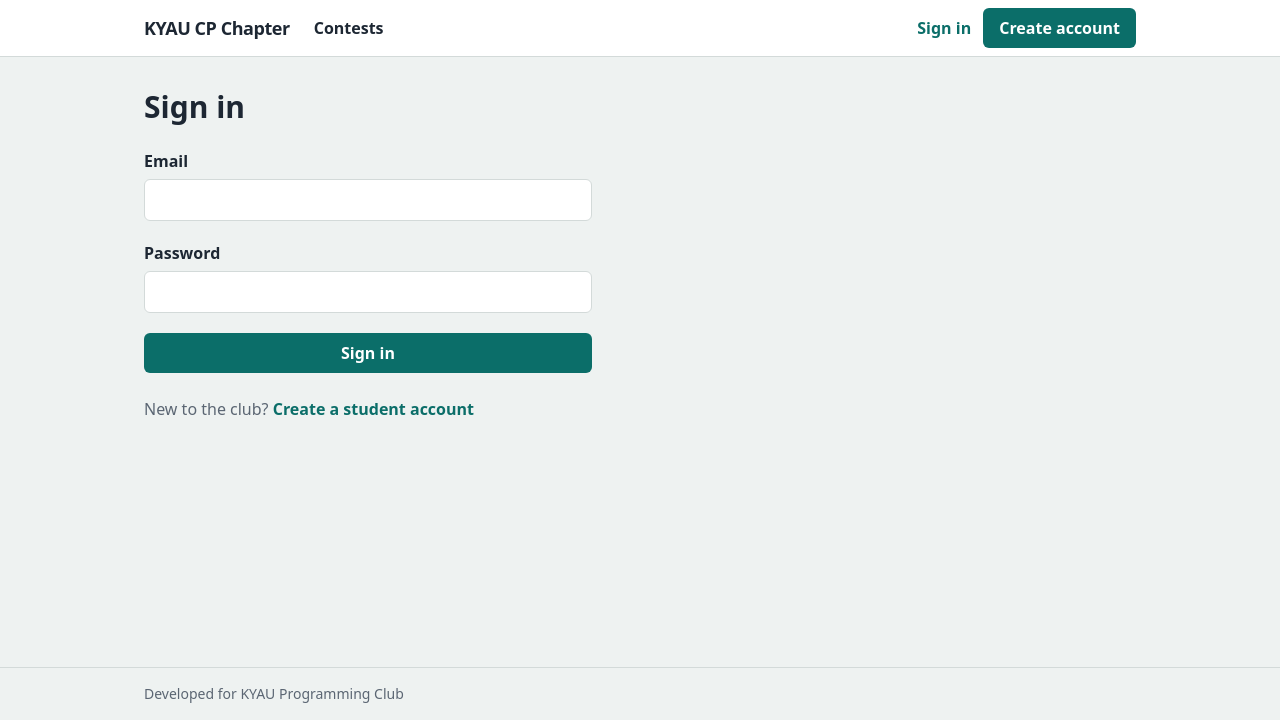
Test case: sign in › explains when the server cannot be reached
Type "anika@students.kyau.test" into the field labelled "Email" at (368, 200), box x1=144 y1=179 x2=592 y2=221
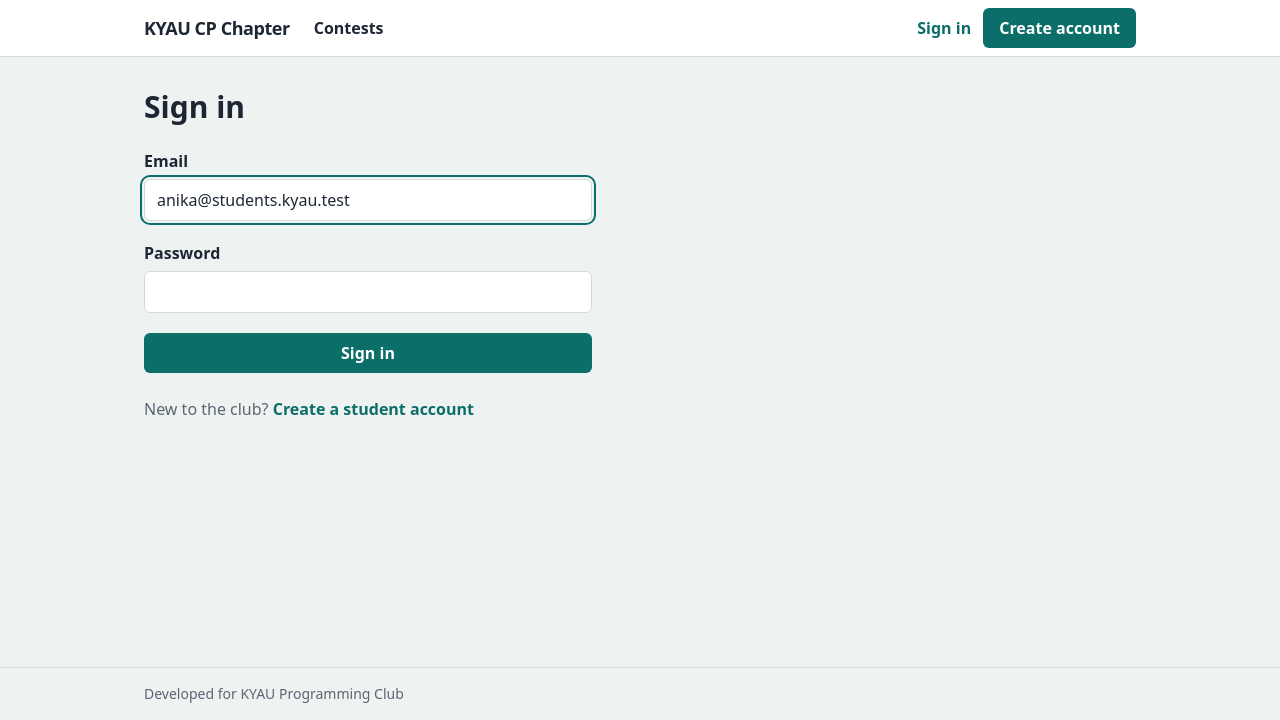
Type "Str0ng!Passw0rd" into the password field labelled "Password" at (368, 292), box x1=144 y1=271 x2=592 y2=313
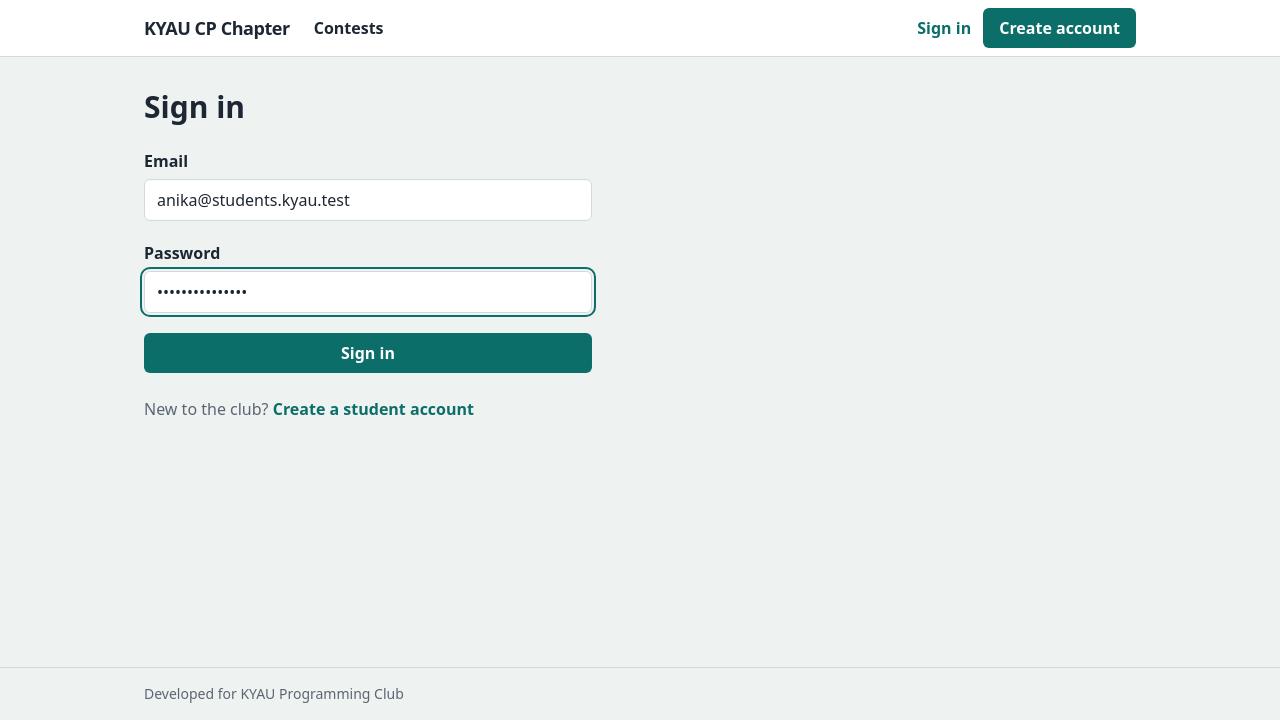
Click the button "Sign in" at (368, 353), box x1=144 y1=333 x2=592 y2=373
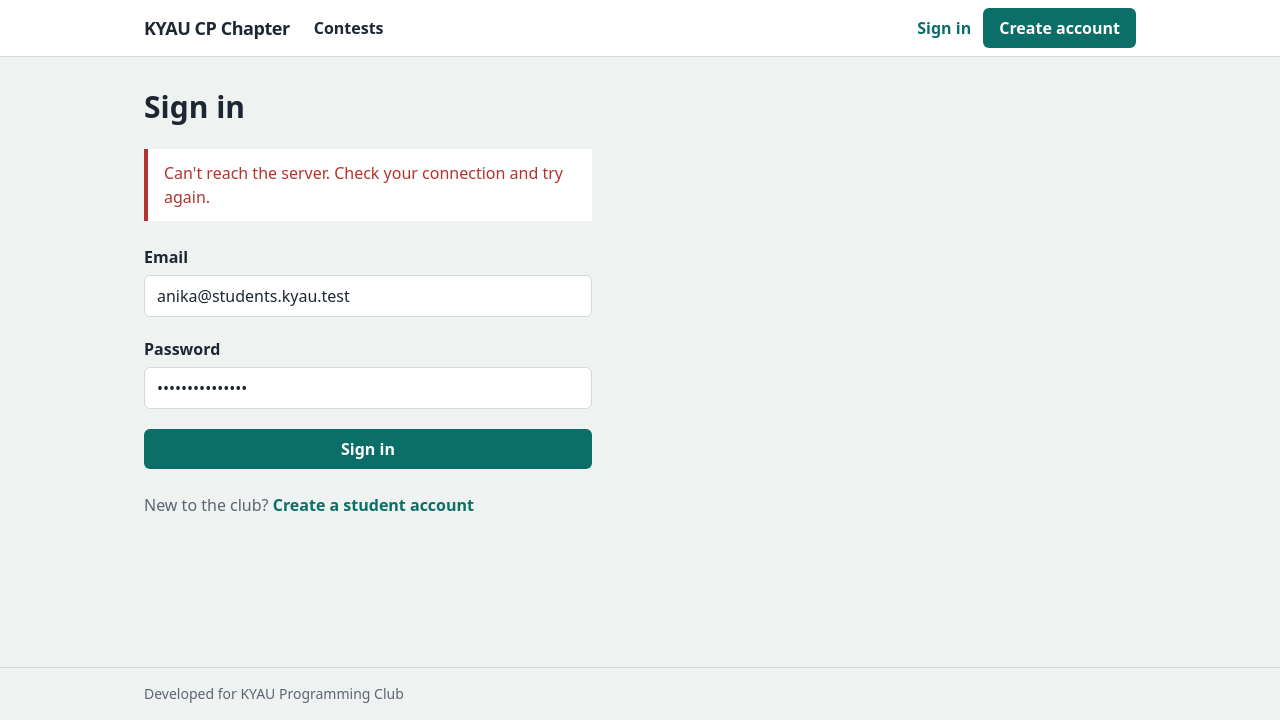
Expected: the message shows "Can't reach the server", x1=164 y1=162 x2=563 y2=208
